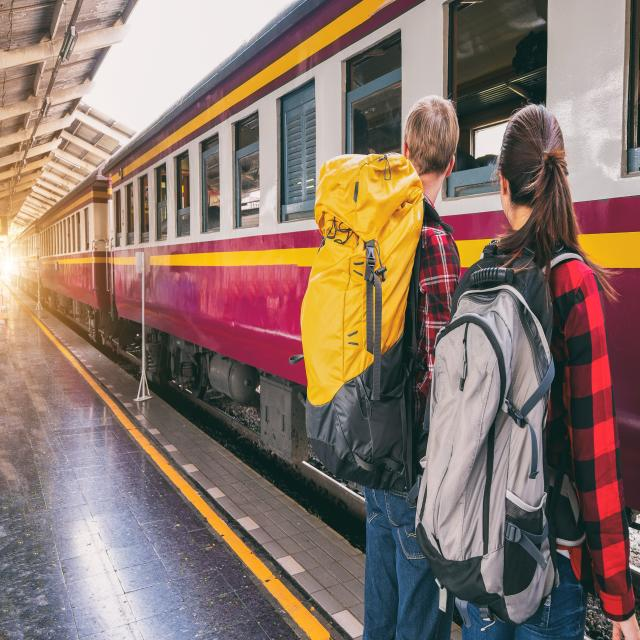backpack: (415, 243, 585, 624), (298, 149, 453, 496)
